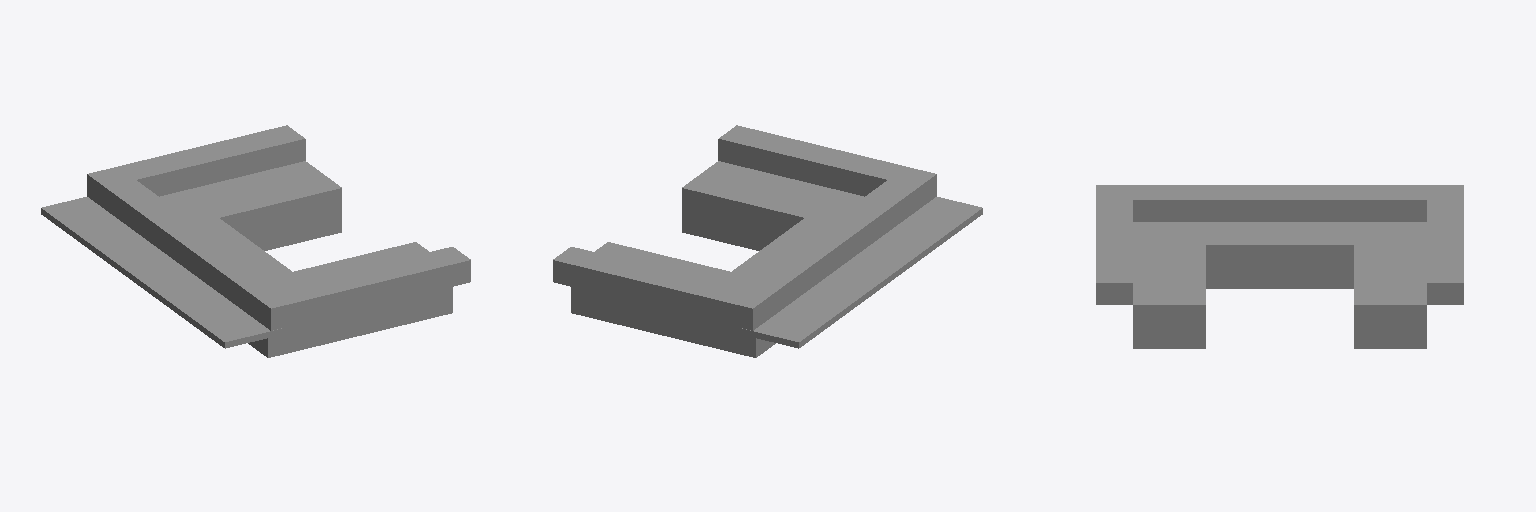
The model's file is tafelmeubel.obj.
3 views of the same model, side by side, from view 1: azimuth 30°, elevation 25°; view 2: azimuth 150°, elevation 25°; view 3: azimuth 270°, elevation 25° (orthographic).
Parts seen in each view (by area): view 1: Cube; view 2: Cube; view 3: Cube.
Part boxes in pixels (x1,y1,x2,y2): Cube: (41,125,470,357); Cube: (553,125,982,357); Cube: (1096,185,1463,348).
Size of the model in its own units: 5.79 by 1.5 by 7.5.